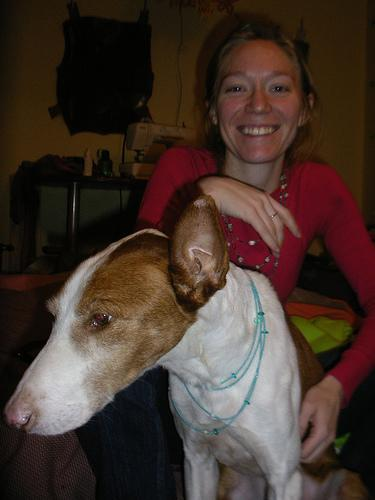Ibizan_hound: (6, 191, 303, 498)
